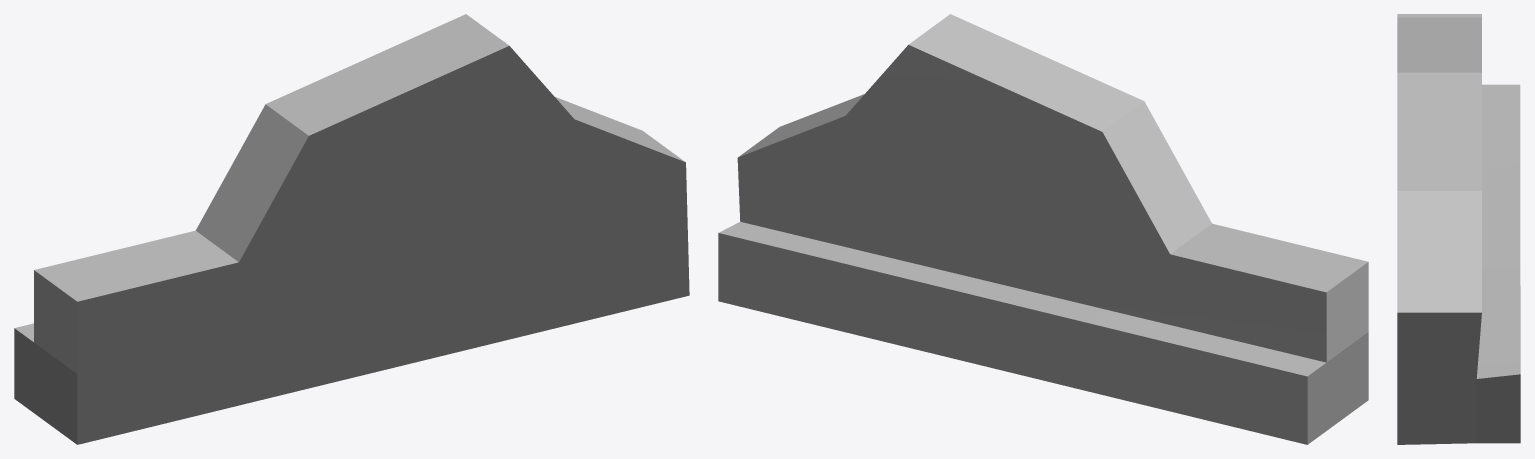
The model's file is wall_damaged_07.fbx.
3 renders of one model, left to right at view 1: azimuth 30°, elevation 25°; view 2: azimuth 150°, elevation 25°; view 3: azimuth 270°, elevation 25°, orthographic. The views are drawn at different scales.
Visible parts, largest first — view 1: wall_damaged_07; view 2: wall_damaged_07; view 3: wall_damaged_07.
Part boxes in pixels (x1,y1,x2,y2): wall_damaged_07: (14, 14, 689, 444); wall_damaged_07: (718, 14, 1368, 444); wall_damaged_07: (1397, 14, 1520, 444).
Size of the model in its own units: 134 by 61.42 by 23.92.
